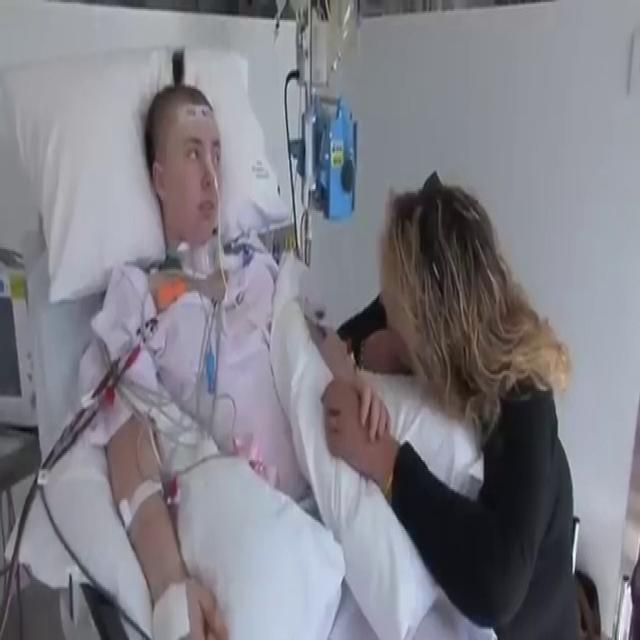others: (318, 169, 584, 638)
patient: (58, 19, 316, 610)
